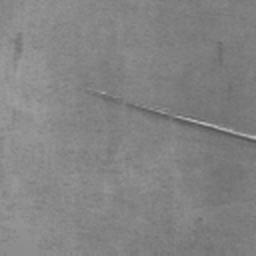Finishing roll printing: (127, 102, 256, 143), (87, 90, 120, 102)
